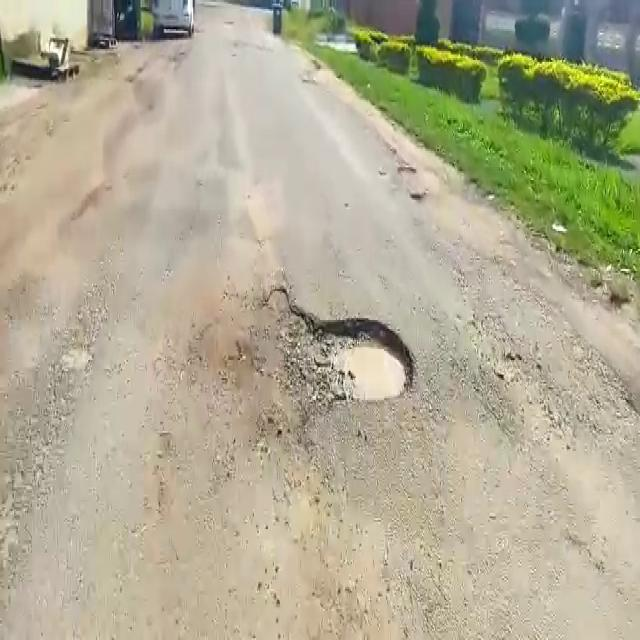Pothole: (251, 290, 424, 416)
